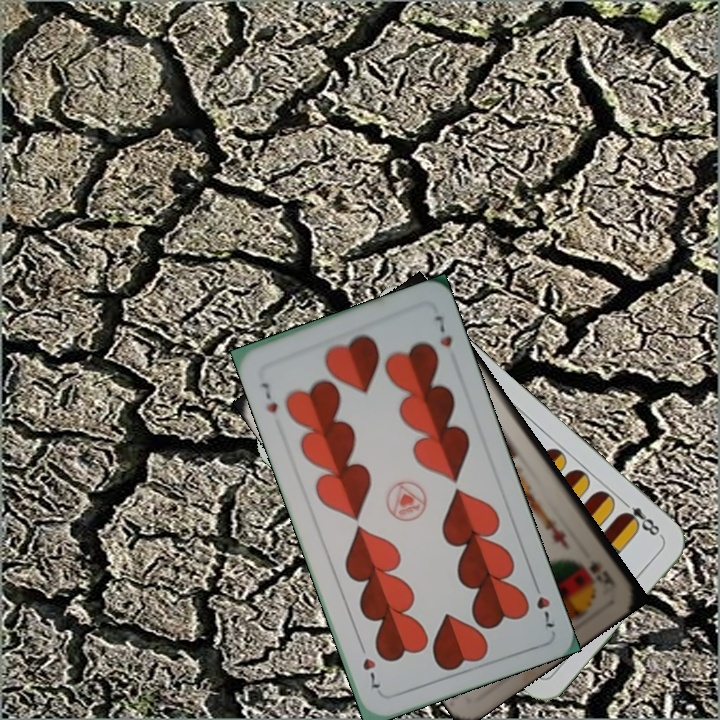E8: (617, 496, 665, 541)
H7: (529, 576, 557, 632), (257, 378, 280, 416)
SK: (585, 557, 619, 590)
